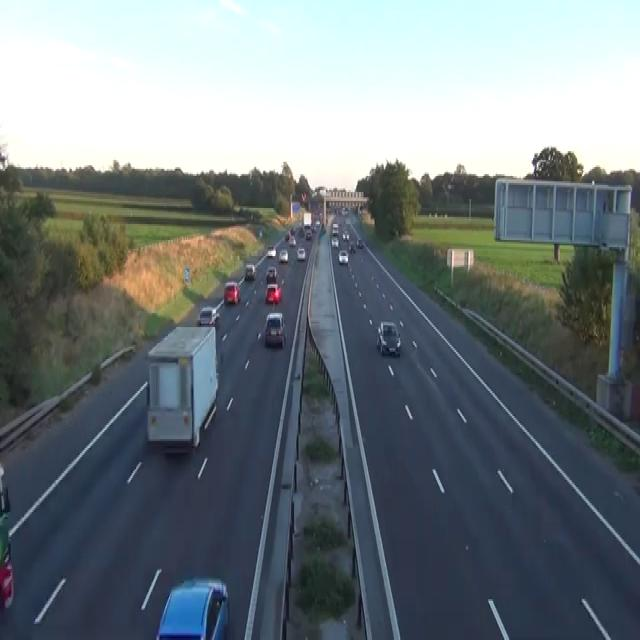Car: (155, 576, 229, 638), (0, 514, 14, 610), (376, 320, 401, 356), (264, 311, 286, 347), (0, 462, 10, 516), (198, 306, 220, 327), (223, 281, 240, 304), (265, 283, 281, 304), (244, 263, 256, 281), (266, 265, 277, 283), (338, 249, 348, 263), (278, 249, 288, 263), (296, 246, 305, 260), (267, 245, 276, 258), (312, 219, 321, 231), (331, 222, 339, 235), (331, 235, 339, 247), (348, 240, 356, 252), (296, 226, 304, 238), (288, 235, 296, 245), (342, 229, 349, 240), (305, 229, 312, 240), (341, 206, 348, 215), (357, 238, 363, 247), (284, 231, 290, 240), (290, 226, 295, 234), (258, 228, 262, 236)
Truck: (145, 324, 219, 452), (303, 212, 311, 228)
